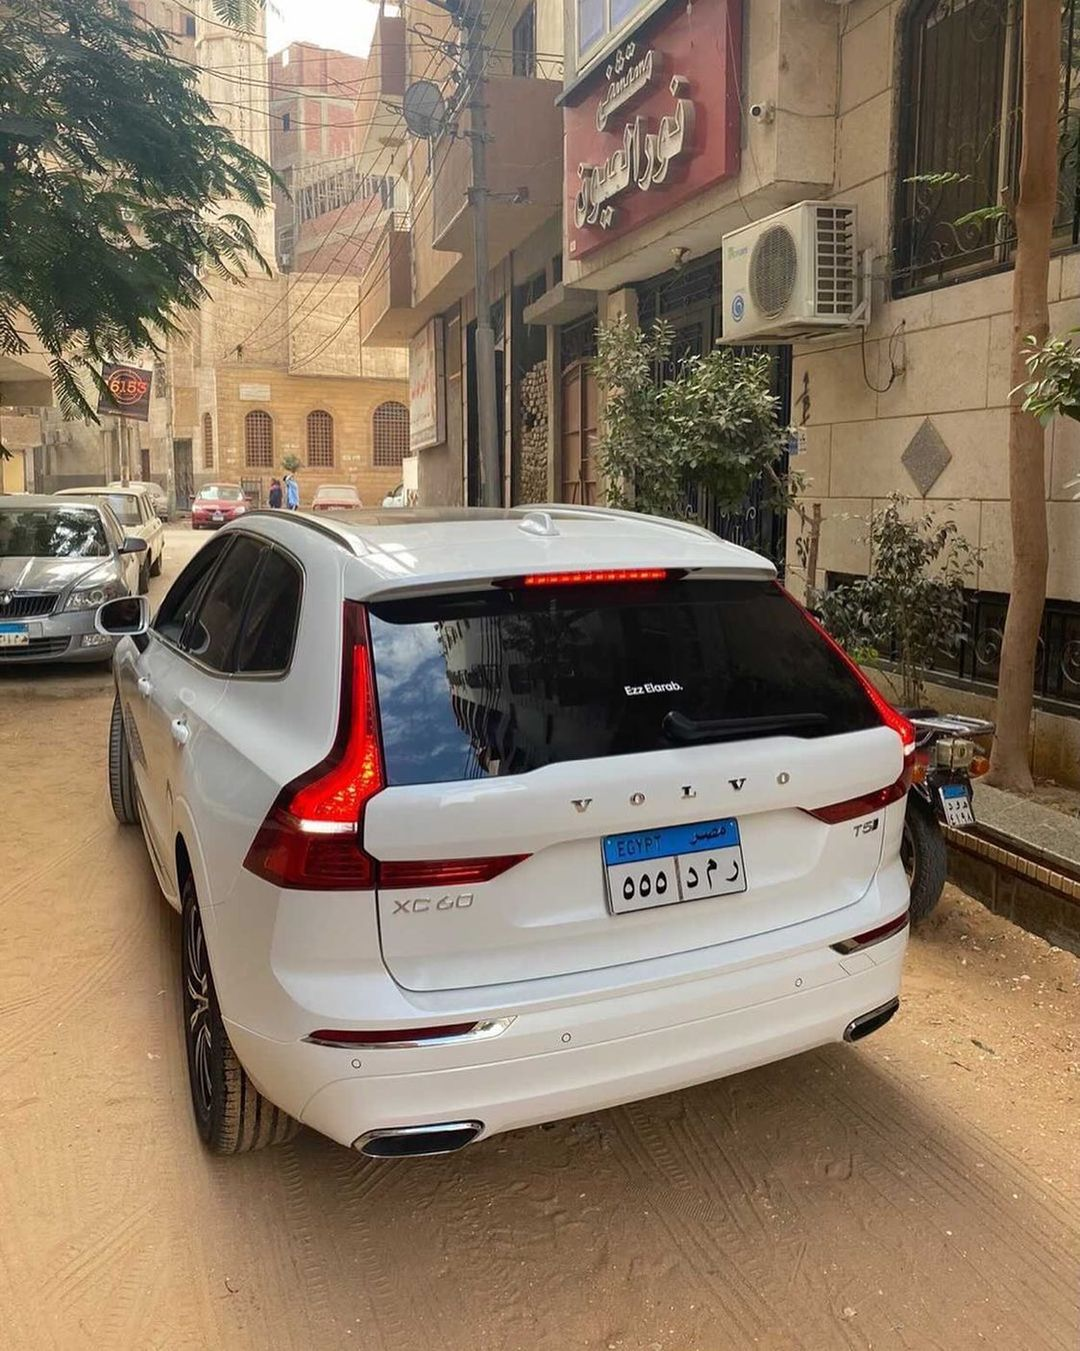carpl: (593, 824, 755, 909)
